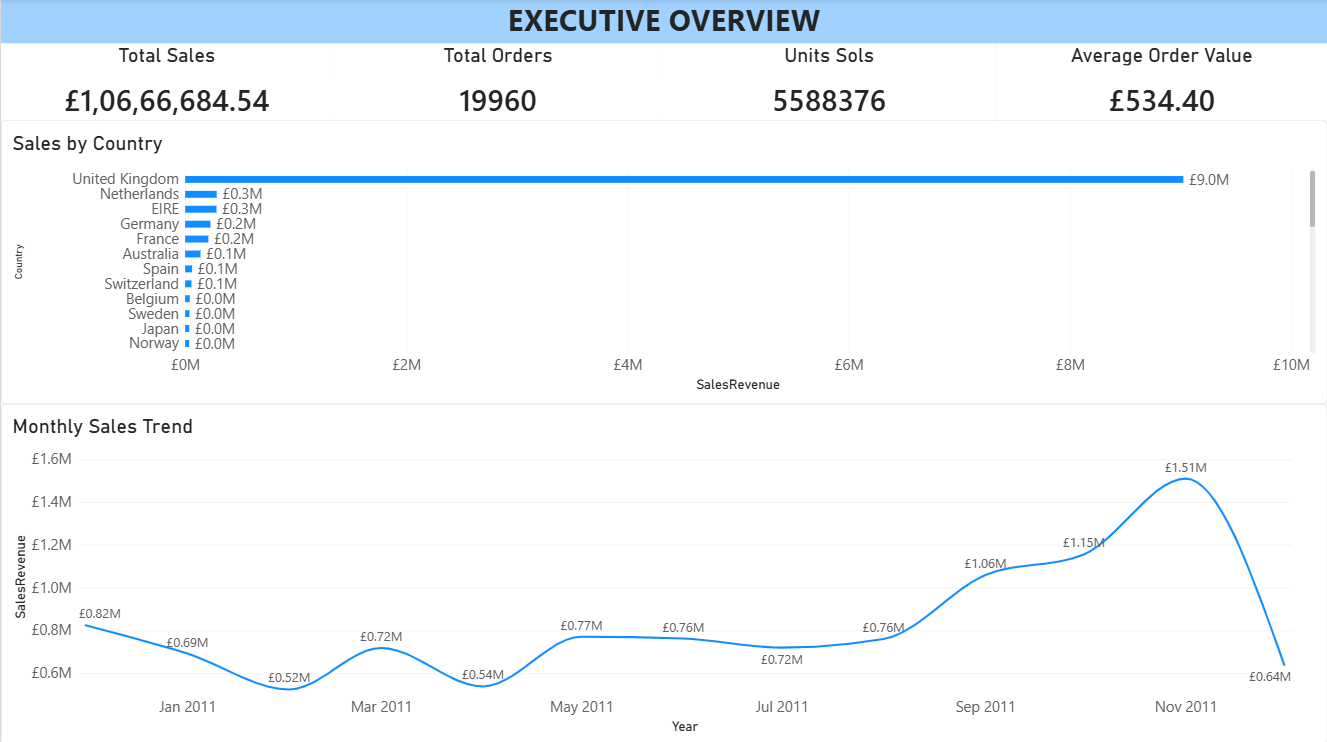

The dashboard page shown, as its layout file describes it:
{"tool":"powerbi","page":{"name":"Executive Overview","canvas":[1920,1080],"ordinal":0},"visuals":[{"type":"cardVisual","title":"Total Sales","fields":{"Data":["online_retail_clean.SalesRevenue"]},"box":[0,64,480,112],"z":0},{"type":"cardVisual","title":"Total Orders","fields":{"Data":["online_retail_clean.Orders"]},"box":[480,64,480,112],"z":1000},{"type":"cardVisual","title":"Units Sols","fields":{"Data":["online_retail_clean.Units Sold"]},"box":[960,64,480,112],"z":2000},{"type":"cardVisual","title":"Average Order Value","fields":{"Data":["online_retail_clean.AOV"]},"box":[1440,64,480,112],"z":3000},{"type":"lineChart","title":"Monthly Sales Trend","fields":{"Category":["online_retail_clean.InvoiceDate.Variation.Date Hierarchy.Year","online_retail_clean.InvoiceDate.Variation.Date Hierarchy.Month"],"Y":["online_retail_clean.SalesRevenue"]},"box":[0,586,1920,494],"z":4000},{"type":"barChart","title":"Sales by Country","fields":{"Category":["online_retail_clean.Country"],"Y":["online_retail_clean.SalesRevenue"]},"box":[0,176,1920,410],"z":5000},{"type":"textbox","box":[0,0,1920,64],"z":6000}]}

Visuals, with their boxes in screenshot pixels (x1, y1, x2, y2), scaled from the page's 1920x1080 canvas onto the 1327x742 screenshot:
"Total Sales" cardVisual: 0, 44, 332, 121
"Total Orders" cardVisual: 332, 44, 664, 121
"Units Sols" cardVisual: 664, 44, 995, 121
"Average Order Value" cardVisual: 995, 44, 1326, 121
"Monthly Sales Trend" lineChart: 0, 403, 1326, 741
"Sales by Country" barChart: 0, 121, 1326, 403
textbox: 0, 0, 1326, 44
